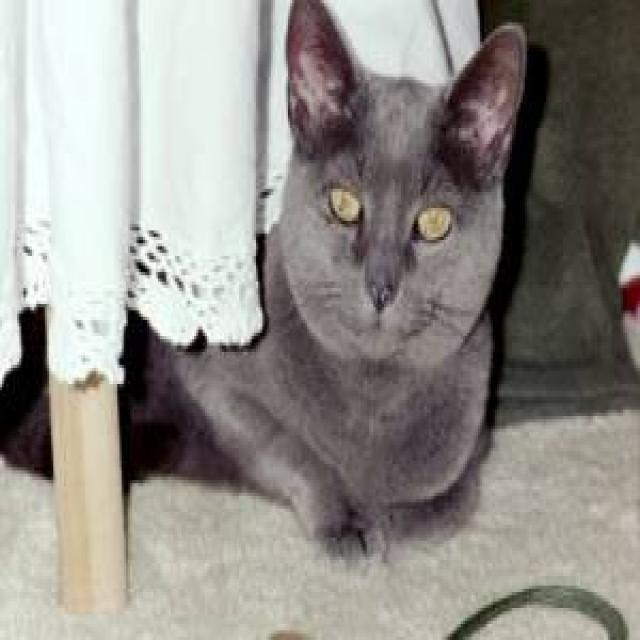Russian_Blue: (272, 0, 532, 377)
